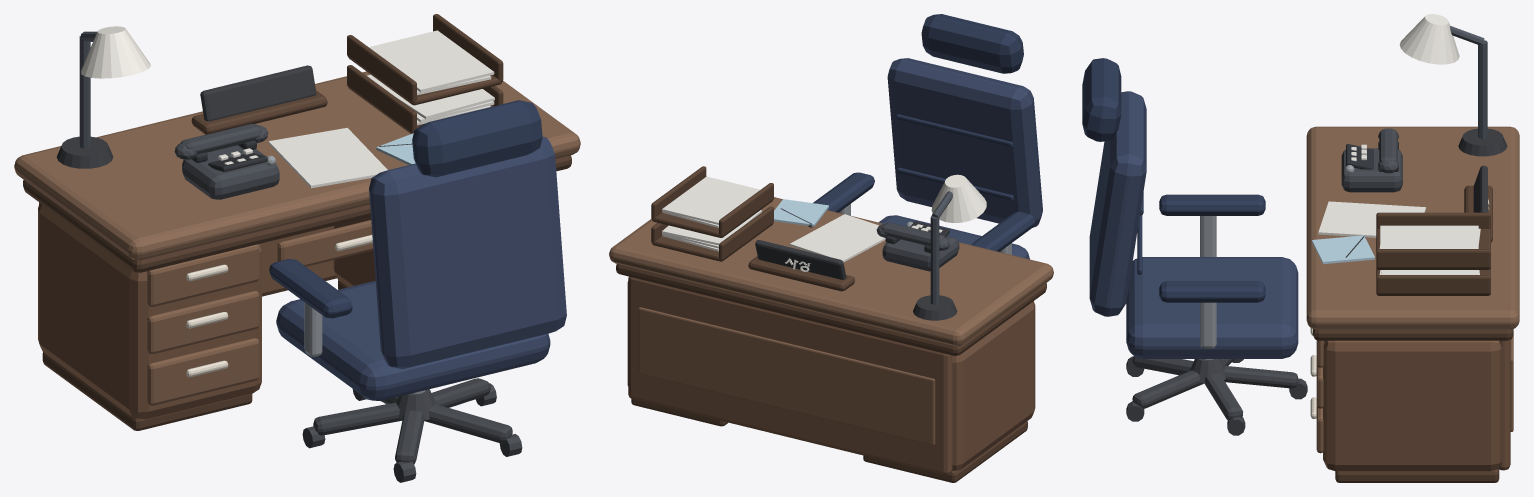
The model's file is boss_desk.glb.
The picture shows the model from 3 angles, left to right: view 1: azimuth 30°, elevation 25°; view 2: azimuth 150°, elevation 25°; view 3: azimuth 270°, elevation 25°; orthographic projection. The views are drawn at different scales.
Visible parts, largest first — view 1: Desk, BossChair, InboxPapers, Bulb, Handset, Note; view 2: Desk, BossChair, InboxPapers, Bulb, Note, Handset; view 3: Desk, BossChair, InboxPapers, Bulb, Note, Handset.
Part boxes in pixels (x1,y1,x2,y2): Desk: [14, 14, 580, 430]; BossChair: [269, 100, 566, 482]; InboxPapers: [367, 30, 494, 125]; Bulb: [80, 26, 150, 78]; Handset: [174, 123, 268, 160]; Note: [376, 133, 415, 164]; Desk: [609, 166, 1053, 482]; BossChair: [813, 14, 1042, 259]; InboxPapers: [662, 176, 761, 251]; Bulb: [931, 174, 986, 222]; Note: [774, 199, 828, 226]; Handset: [876, 222, 950, 251]; Desk: [1306, 25, 1519, 482]; BossChair: [1082, 58, 1307, 435]; InboxPapers: [1379, 225, 1480, 274]; Bulb: [1399, 14, 1459, 64]; Note: [1312, 235, 1374, 264]; Handset: [1378, 128, 1399, 173].
Bounding box in the file's own units: 1.1 × 0.86 × 1.07.
